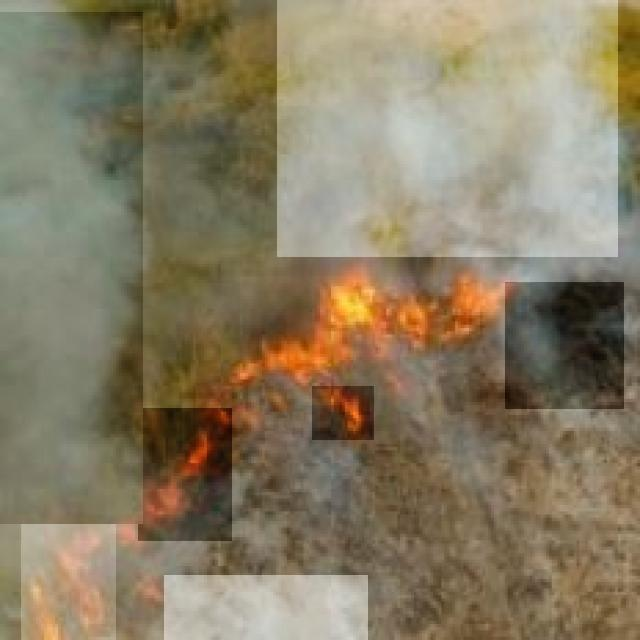Fire: (240, 276, 516, 379), (138, 408, 232, 541), (21, 520, 116, 640), (312, 386, 374, 440)
Smoke: (277, 0, 618, 257), (0, 12, 143, 524), (505, 282, 624, 409), (164, 575, 368, 640)
